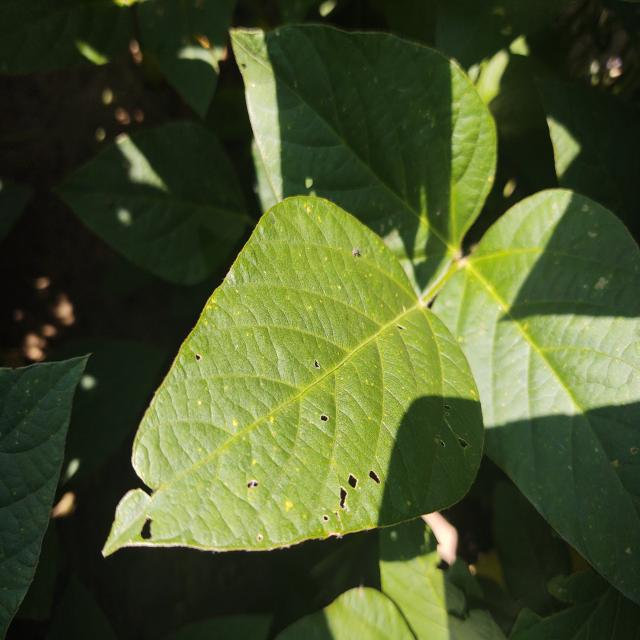downey_mildew: (347, 244, 369, 265)
